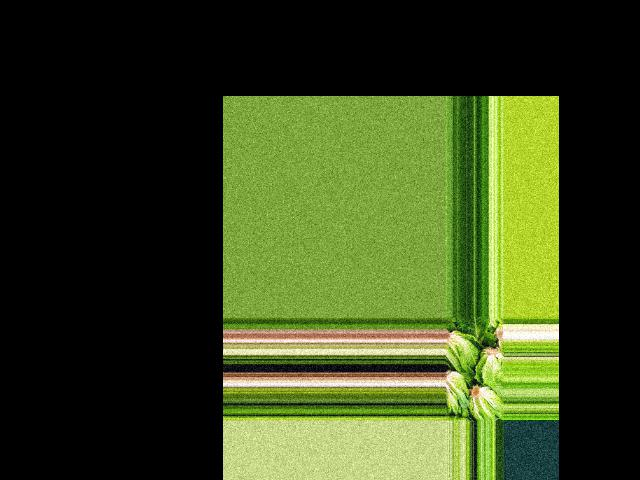lettuce: (465, 316, 489, 340)
